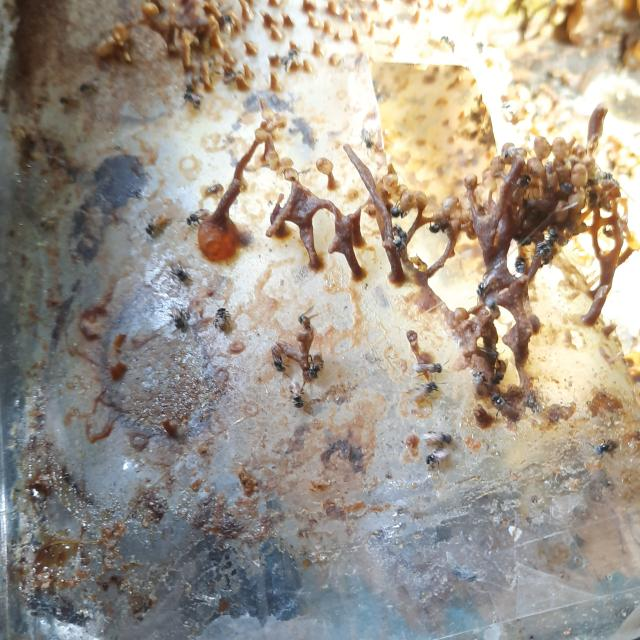honeybee: (424, 443, 450, 472), (144, 214, 168, 240), (270, 347, 288, 374), (590, 440, 616, 458), (184, 208, 207, 228), (288, 381, 304, 408), (414, 362, 444, 376), (430, 428, 450, 448), (171, 305, 186, 331), (306, 358, 322, 382), (428, 218, 446, 239), (214, 308, 229, 333), (538, 240, 553, 265), (299, 311, 318, 330), (171, 261, 187, 283), (417, 384, 437, 401), (392, 222, 409, 242), (388, 202, 403, 224), (512, 252, 525, 277), (495, 396, 512, 413), (472, 371, 490, 387), (394, 236, 406, 255)
